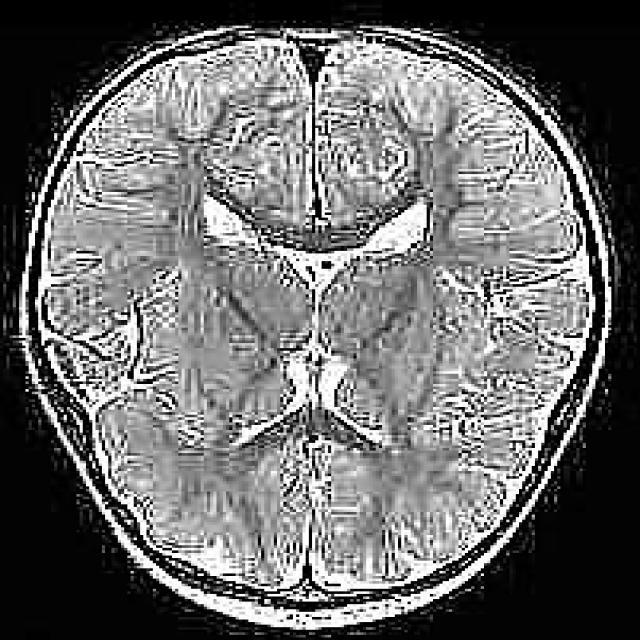notumor: (25, 26, 618, 635)
